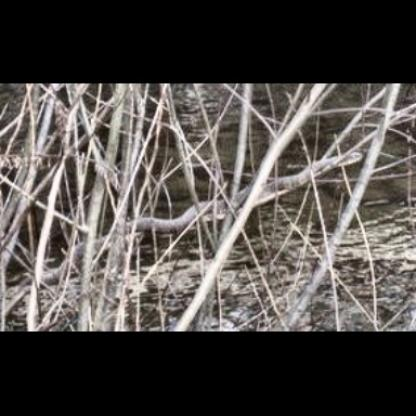Snake: (39, 146, 365, 254)
